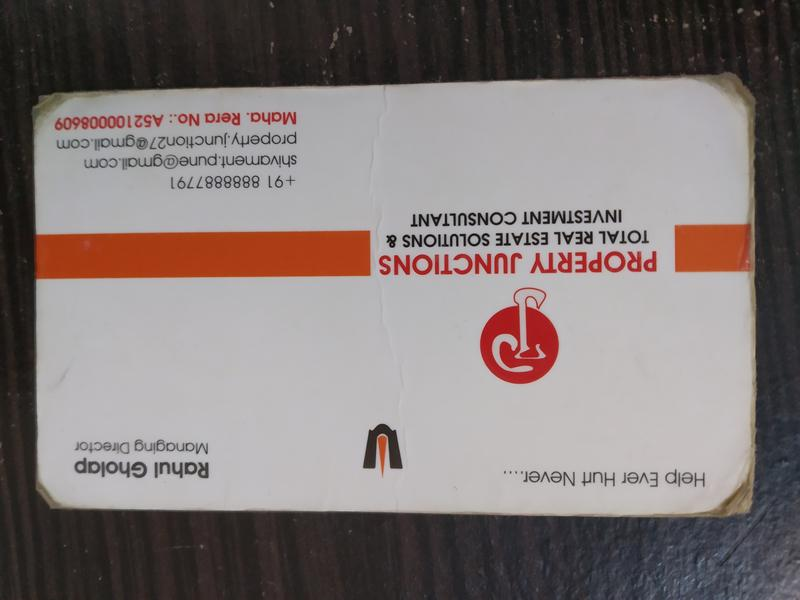card: (29, 73, 763, 521)
